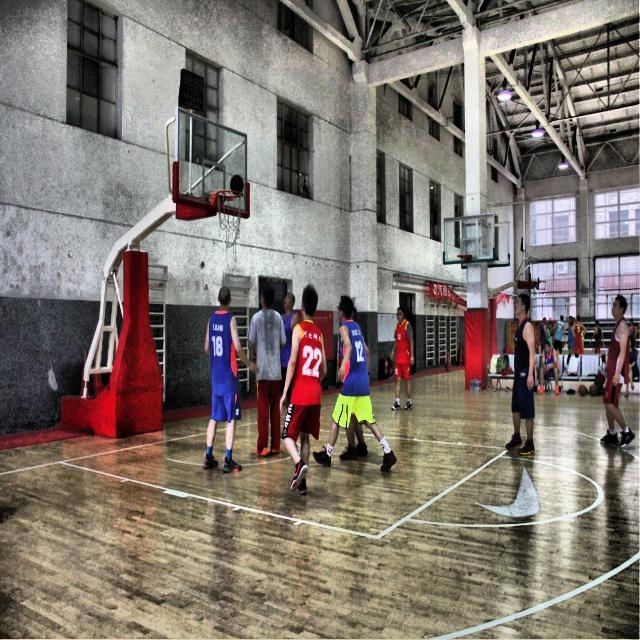board: (230, 175, 243, 193), (578, 384, 588, 397)
